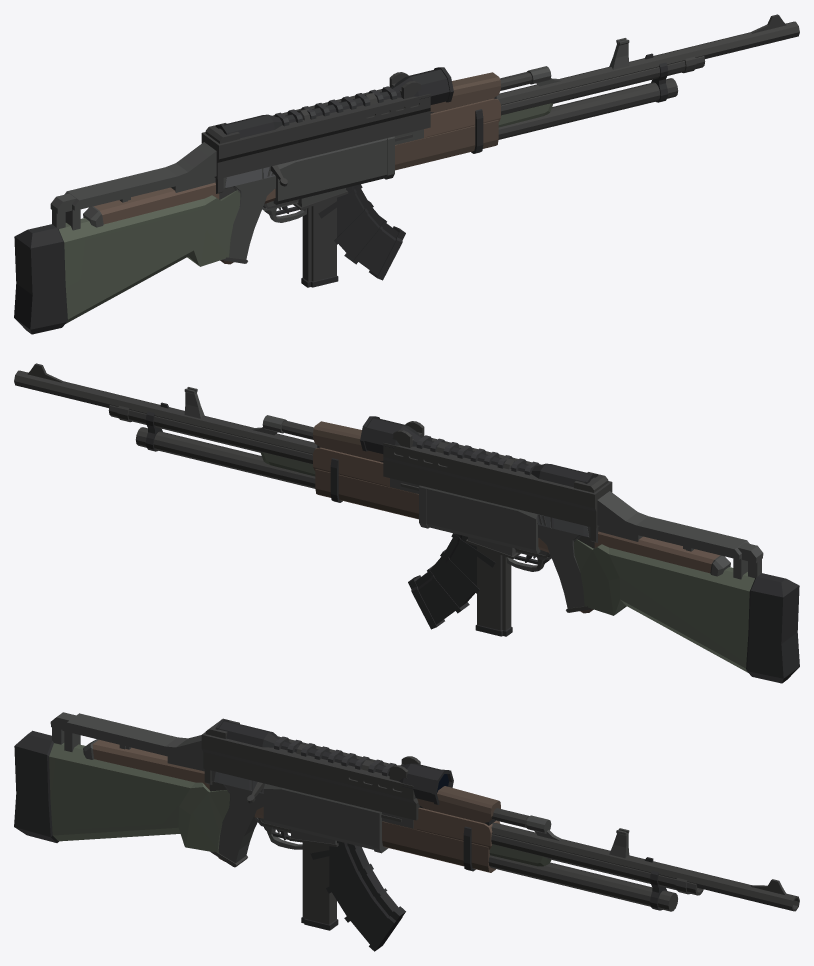
The model's file is guns.fbx.
3 views of the same model, one above another, from view 1: azimuth 30°, elevation 25°; view 2: azimuth 150°, elevation 25°; view 3: azimuth 330°, elevation 25° (orthographic).
Visible parts, largest first — view 1: SniperRifle, SubmachineGun, Shotgun, AssaultRifle; view 2: SniperRifle, SubmachineGun, Shotgun, AssaultRifle, Pistol; view 3: SniperRifle, SubmachineGun, Shotgun, AssaultRifle, Pistol.
Boxes of the visible parts, left/top/right/bottom form: SniperRifle: left=14, top=14, right=799, bottom=334; SubmachineGun: left=64, top=72, right=430, bottom=287; Shotgun: left=83, top=53, right=705, bottom=227; AssaultRifle: left=50, top=38, right=629, bottom=280; SniperRifle: left=14, top=363, right=799, bottom=683; SubmachineGun: left=383, top=421, right=749, bottom=636; Shotgun: left=108, top=402, right=730, bottom=576; AssaultRifle: left=184, top=387, right=763, bottom=629; Pistol: left=537, top=514, right=588, bottom=541; SniperRifle: left=14, top=719, right=799, bottom=911; SubmachineGun: left=62, top=713, right=420, bottom=930; Shotgun: left=83, top=739, right=703, bottom=911; AssaultRifle: left=50, top=712, right=629, bottom=951; Pistol: left=214, top=771, right=264, bottom=793.
Bounding box in the file's own units: 729 × 175 × 45.93.
